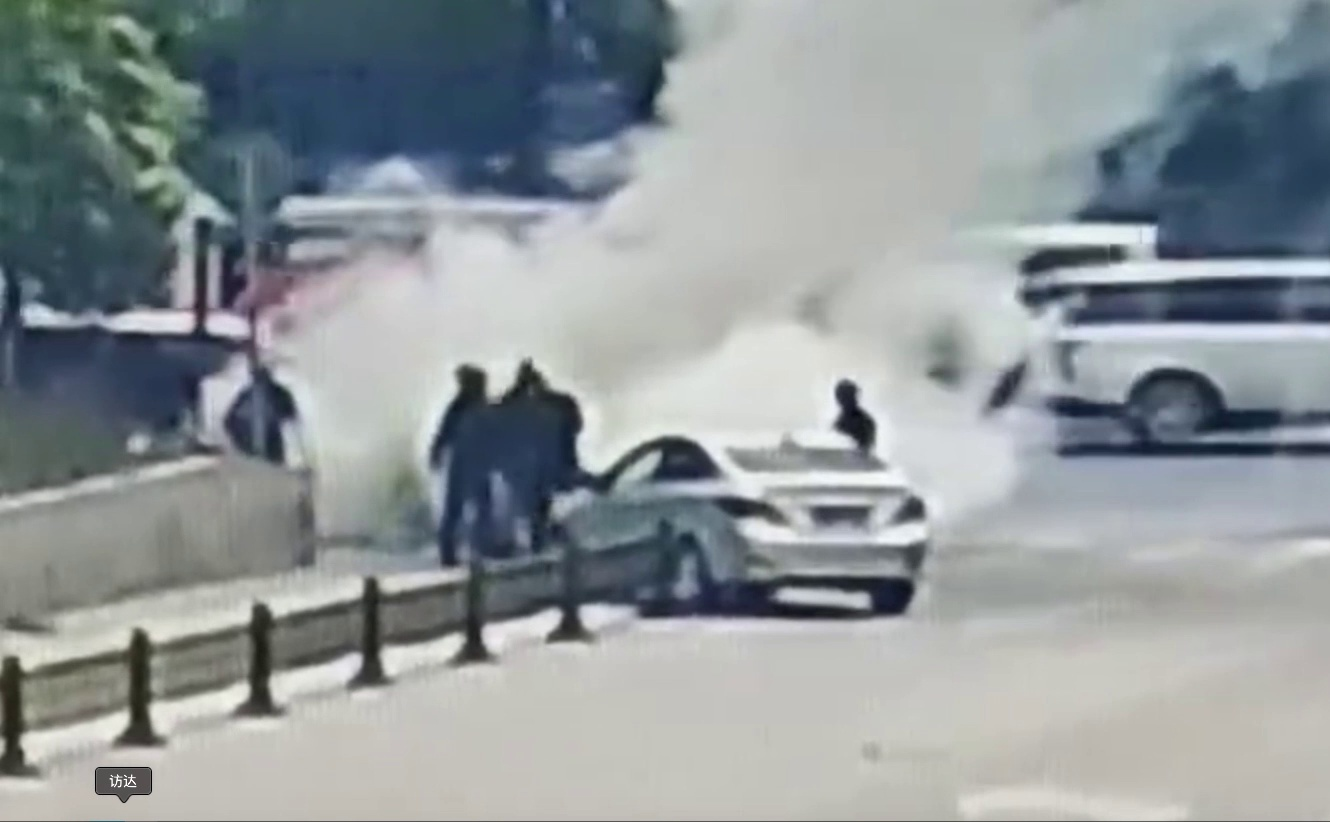smoke: (311, 38, 1150, 456)
